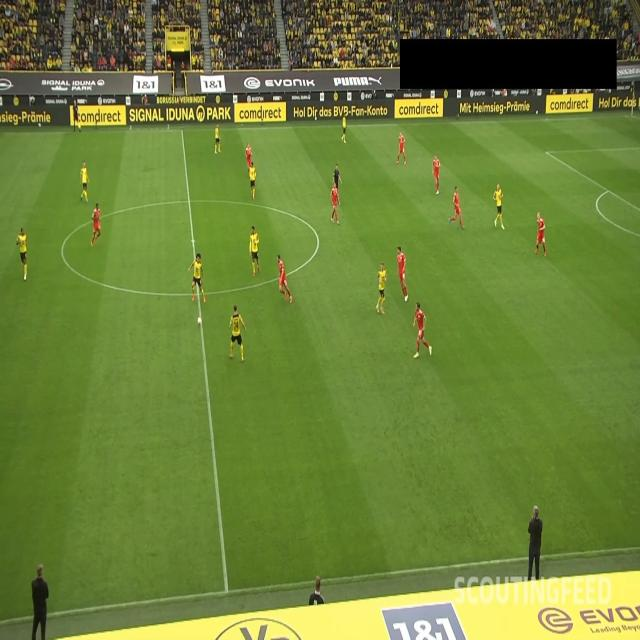ball: (197, 316, 202, 326)
